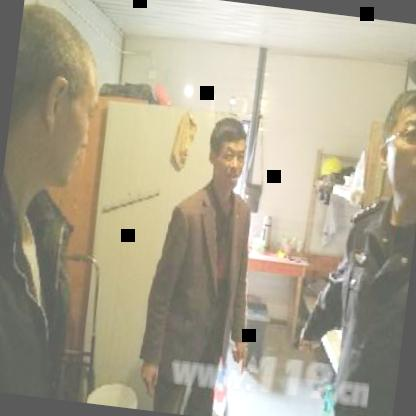head: (0, 0, 121, 207), (372, 75, 416, 209), (200, 111, 252, 192)
